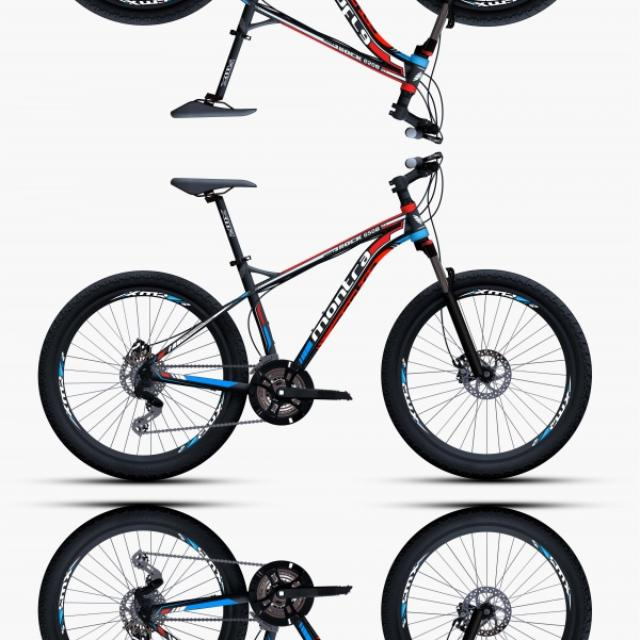obstacle: (29, 149, 607, 487), (29, 0, 607, 145), (29, 499, 607, 640)
